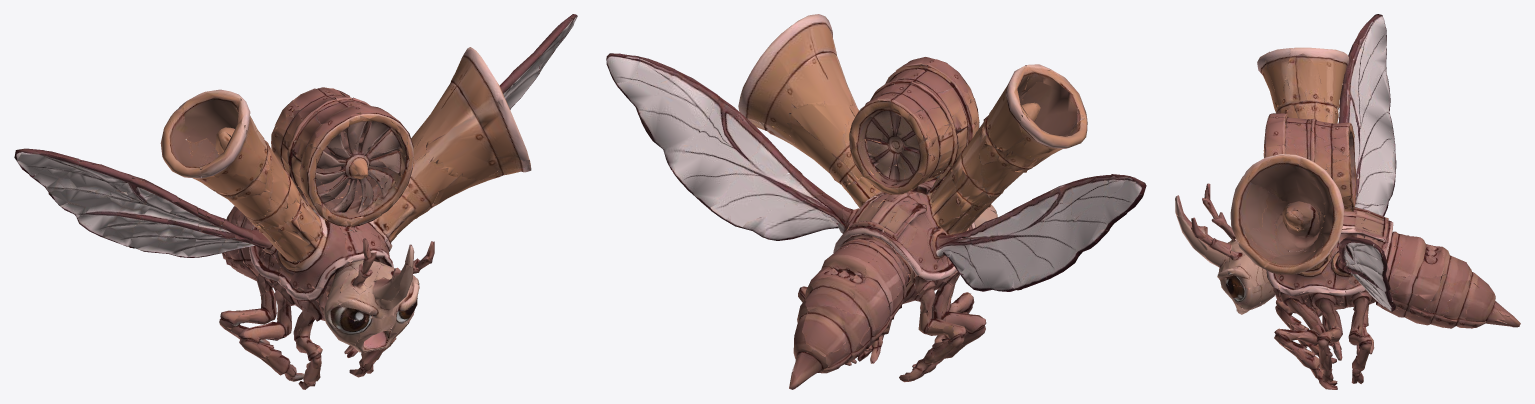
3 renders of one model, left to right at view 1: azimuth 30°, elevation 25°; view 2: azimuth 150°, elevation 25°; view 3: azimuth 270°, elevation 25°, orthographic. The views are drawn at different scales.
Parts seen in each view (by area): view 1: Mesh_0; view 2: Mesh_0; view 3: Mesh_0.
Boxes of the visible parts, <box> form: Mesh_0: <box>14,14,577,389</box>; Mesh_0: <box>606,14,1146,389</box>; Mesh_0: <box>1175,14,1520,389</box>.
Bounding box in the file's own units: 1.9 × 1.06 × 1.18.
Materials: 1 (1 with a texture image).
